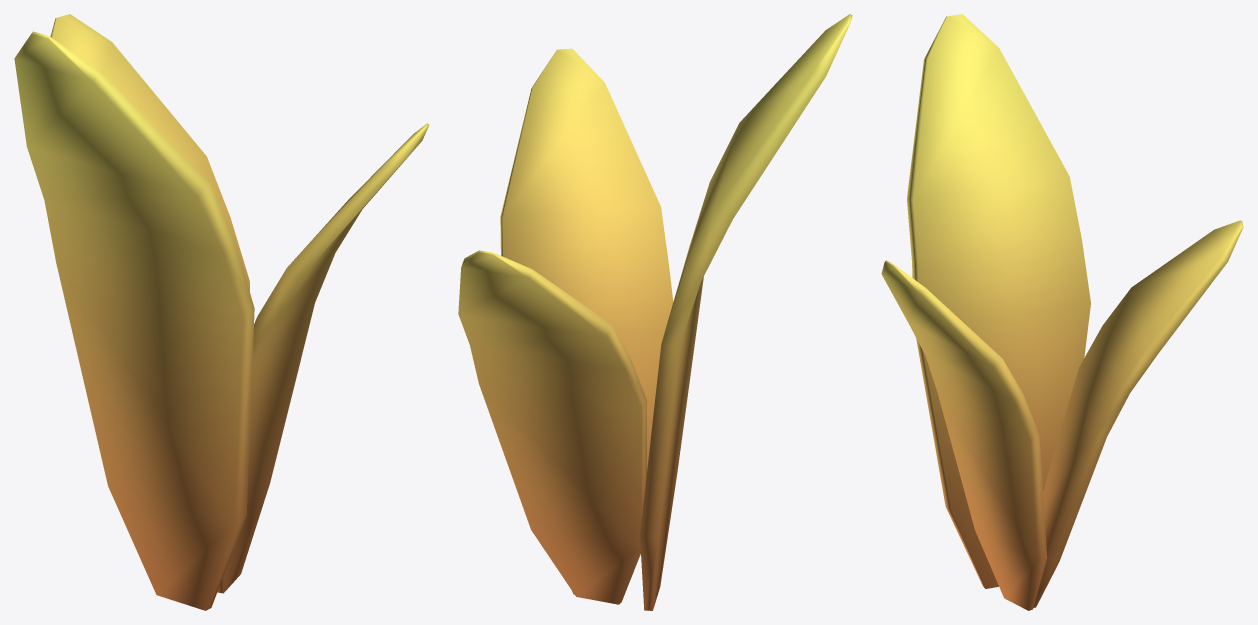
File: Grass_F.fbx
The picture shows the model from 3 angles, left to right: view 1: azimuth 30°, elevation 25°; view 2: azimuth 150°, elevation 25°; view 3: azimuth 270°, elevation 25°; orthographic projection. The views are drawn at different scales.
Parts seen in each view (by area): view 1: Grass_F; view 2: Grass_F; view 3: Grass_F.
Boxes of the visible parts, x1=… form: Grass_F: x1=14, y1=14, x2=429, y2=610; Grass_F: x1=458, y1=14, x2=852, y2=610; Grass_F: x1=881, y1=14, x2=1243, y2=610.
Bounding box in the file's own units: 45.14 × 75.06 × 49.16.
